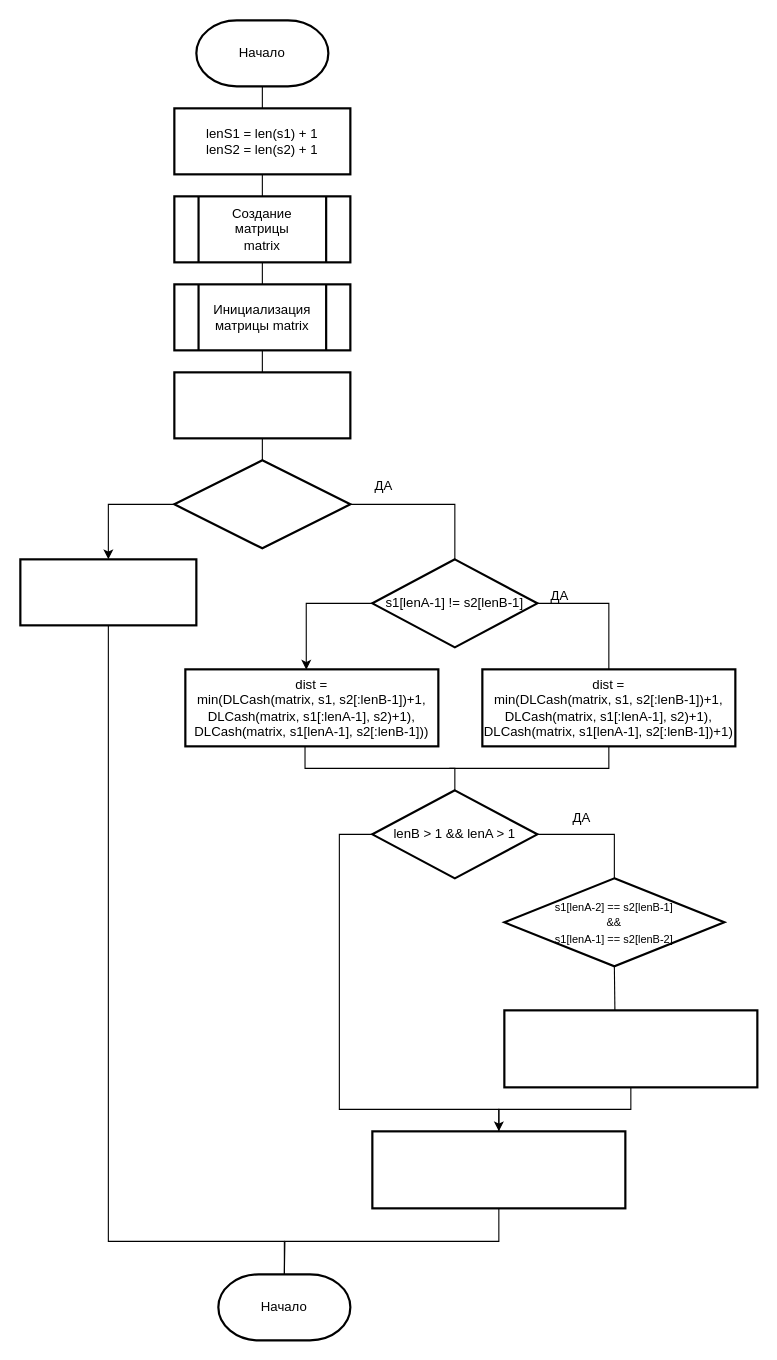
Some shapes in this 777 by 1360 pixel diagram are drawn without their labels. Here are the shapes that lost their labels. From the top down, the box of each, then its label:
(173, 371, 351, 439): lenA = len(s1) lenB = len(s2) dist = 0
(173, 459, 351, 549): matrix[lenA][lenB] == -1
(19, 558, 197, 626): dist = matrix[lenA][lenB]
(503, 1009, 758, 1088): dist = min(dist, DLCash(matrix, s1[:lenA-2], s2[:lenB-2]) + 1)
(371, 1130, 626, 1209): matrix[lenA][lenB] == dist
